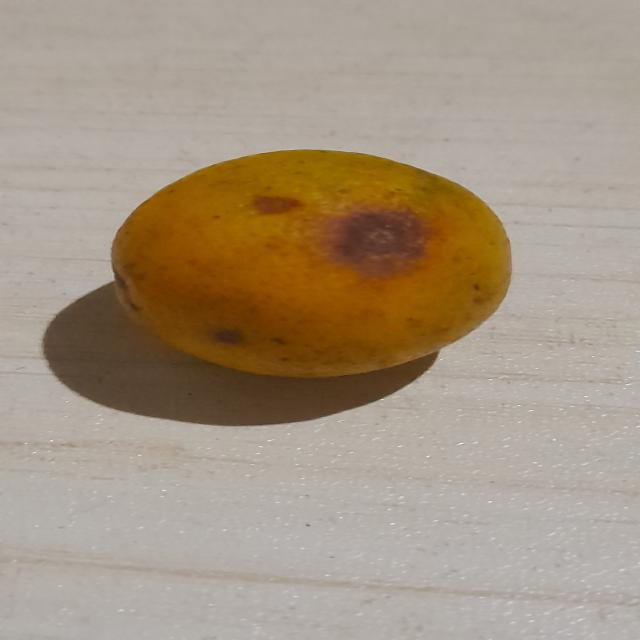black spot: (104, 148, 520, 386)
